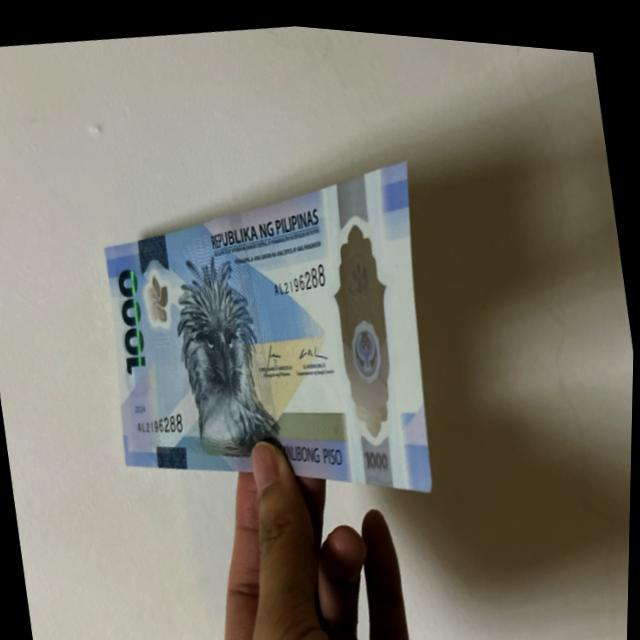clear_window: (316, 206, 419, 435)
eagle: (167, 264, 283, 467)
sampaguita: (138, 258, 179, 331)
